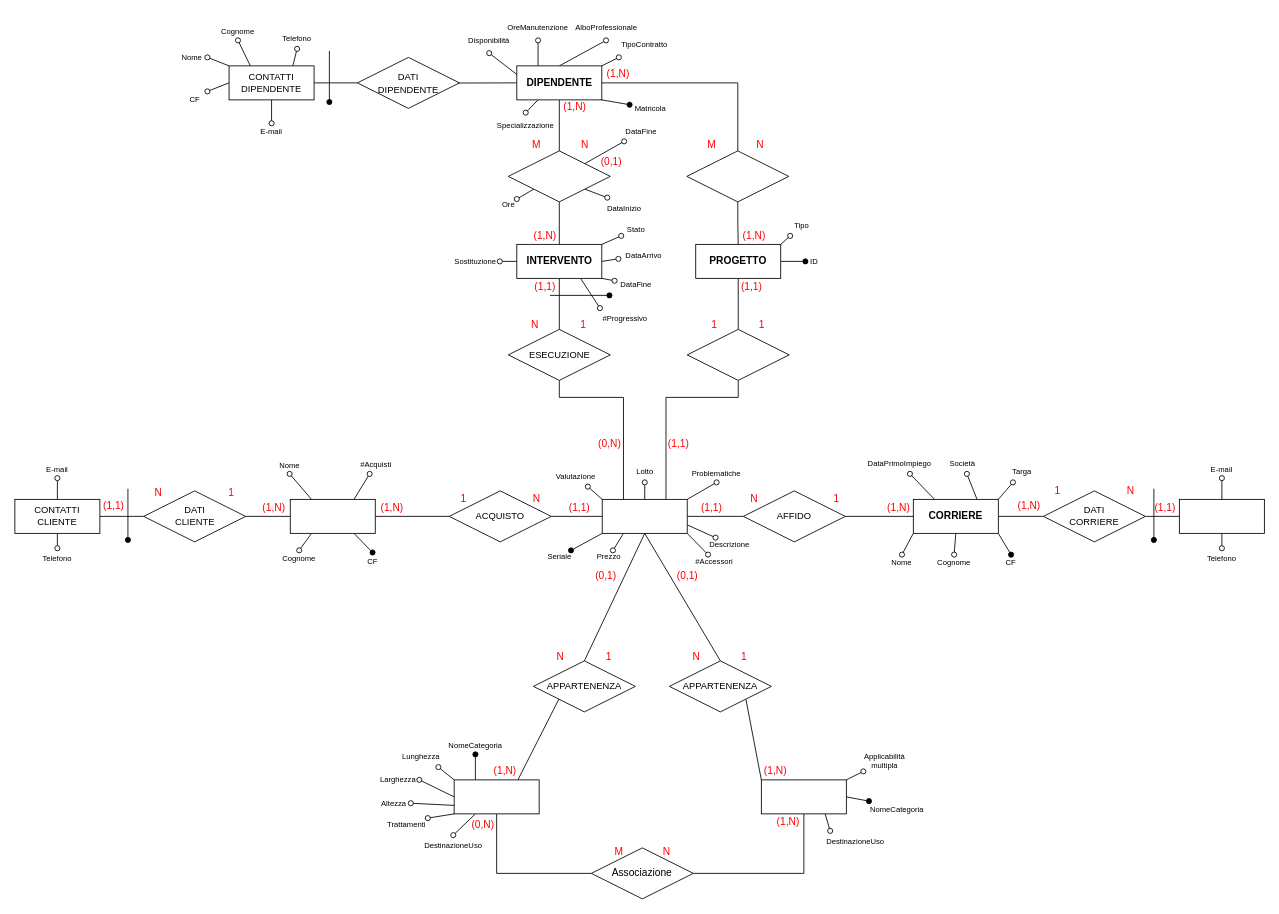
Image size: 1279x914. Some labels were removed from this diagram. Here are the shapes that lost their labels. From the top down, the centre of each, then its label:
At (x=558, y=176): "COINVOLGIMENTO".
At (x=737, y=176): "PARTECIPAZIONE".
At (x=737, y=354): "REALIZZAZIONE".
At (x=332, y=516): "CLIENTE".
At (x=644, y=516): "MACCHINARIO".
At (x=1221, y=516): "CONTATTI CORRIERE".
At (x=496, y=796): "BASE".
At (x=803, y=796): "ACCESSORIA".
